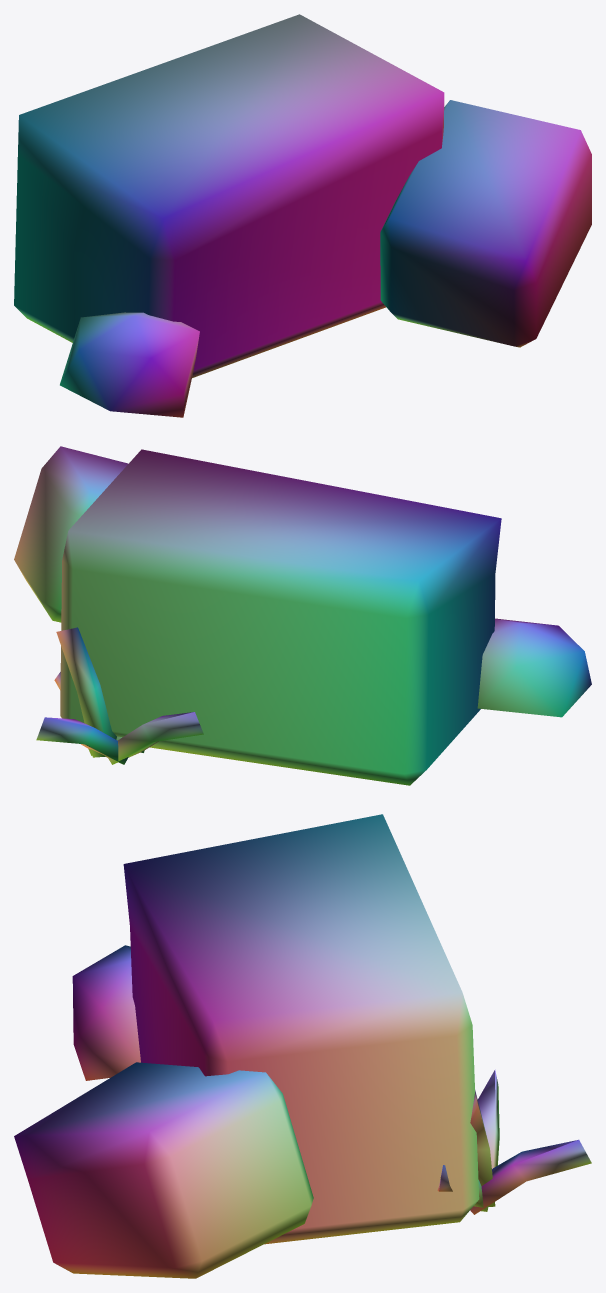
The model's file is SM_Rock_March_BrokenStone_C.fbx.
3 views of the same model, one above another, from view 1: azimuth 30°, elevation 25°; view 2: azimuth 150°, elevation 25°; view 3: azimuth 270°, elevation 25° (orthographic). The views are drawn at different scales.
Visible parts, largest first — view 1: SM_Rock_March_BrokenStone_C; view 2: SM_Rock_March_BrokenStone_C; view 3: SM_Rock_March_BrokenStone_C.
Part boxes in pixels (x1,y1,x2,y2): SM_Rock_March_BrokenStone_C: (14,14,591,417); SM_Rock_March_BrokenStone_C: (14,446,591,785); SM_Rock_March_BrokenStone_C: (14,814,591,1278).
Bounding box in the file's own units: 0.8836 × 0.3512 × 0.7213.
